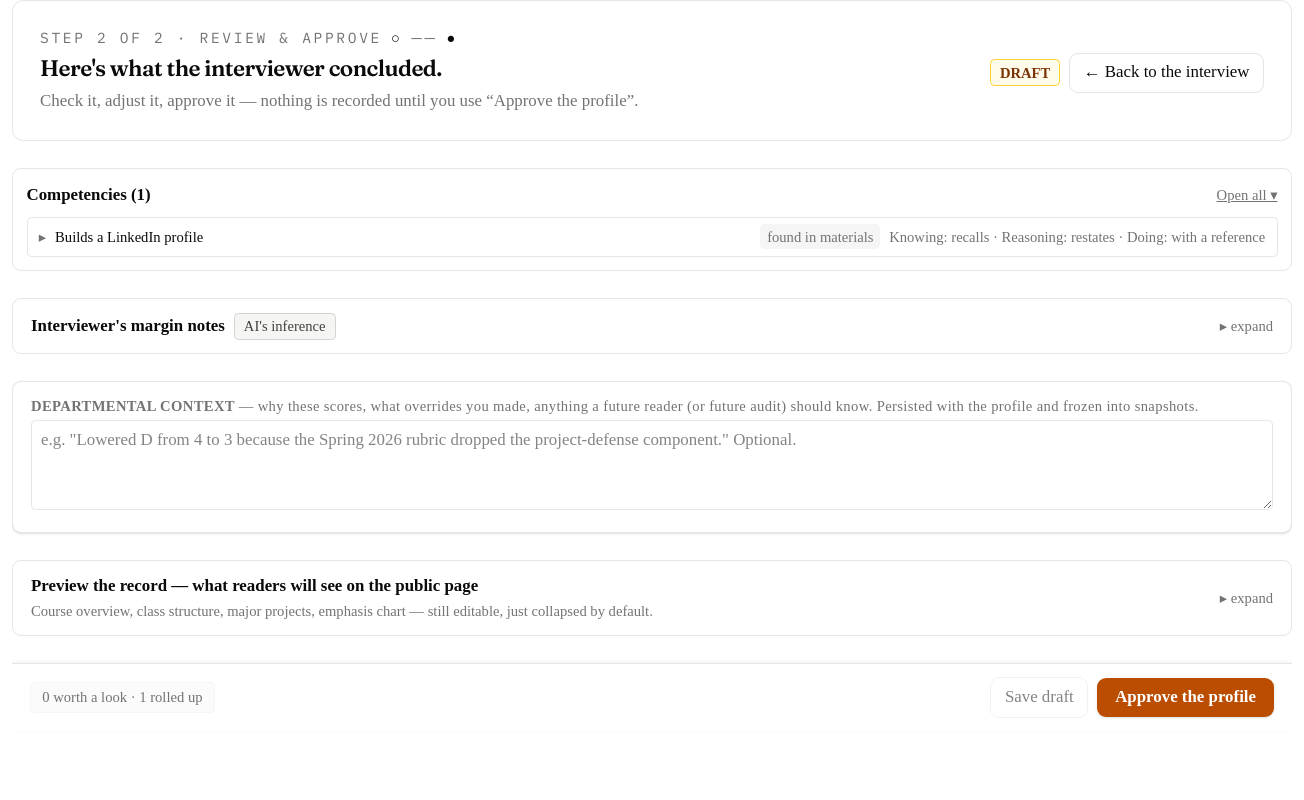
Test case: other review text › margin notes are rewritten
Click the button "▸ expand". click: point(1246, 326)
box: [1220,316,1273,336]
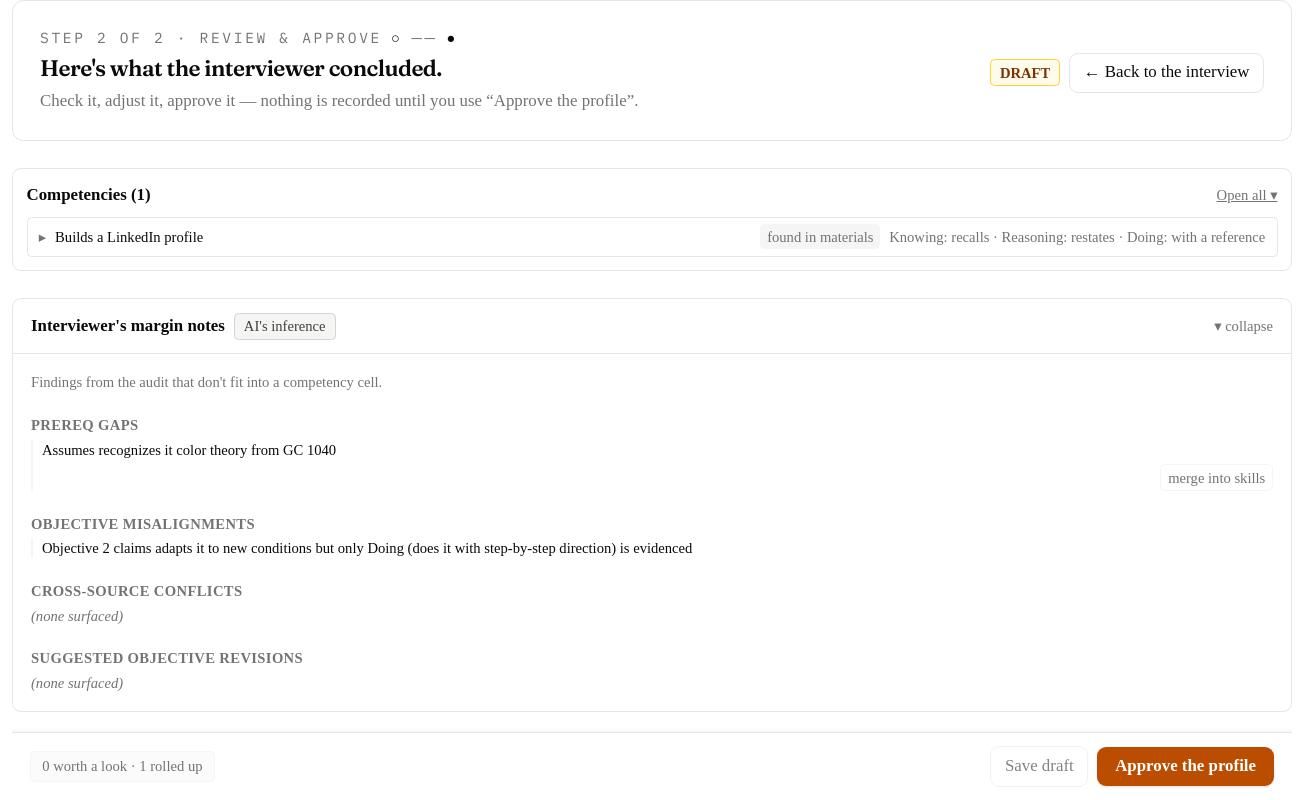
Now the text "Assumes recognizes it color theory from GC 1040" is shown, box [42,442,336,458]
Now the text "Objective 2 claims adapts it to new conditions but only Doing (does it with step-by-step direction) is evidenced" is shown, box [42,540,692,556]
